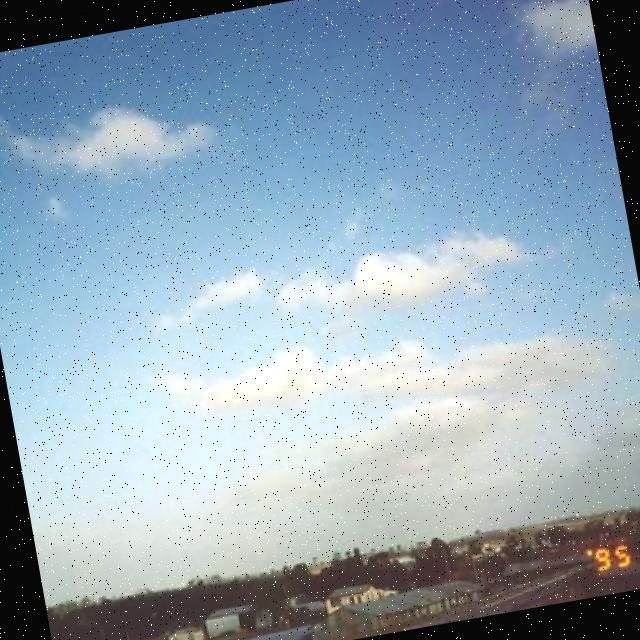St: (145, 217, 556, 378)
